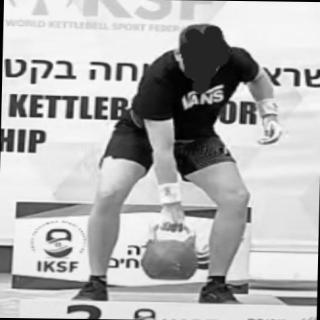kettlebell: (139, 215, 204, 285)
